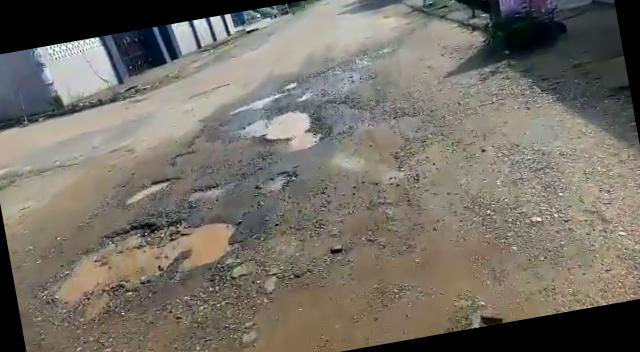pothole: (30, 202, 252, 310), (230, 102, 326, 156), (119, 174, 184, 205), (233, 89, 290, 113), (182, 181, 226, 205)
